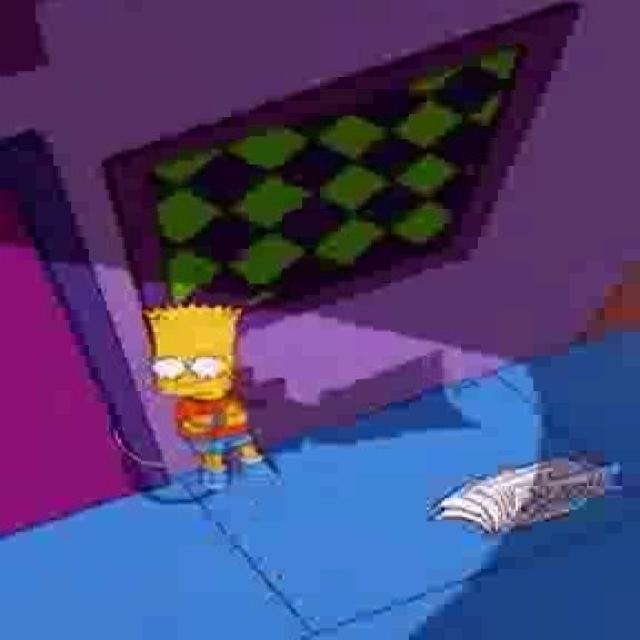Bart Simpson: (143, 304, 239, 404)
